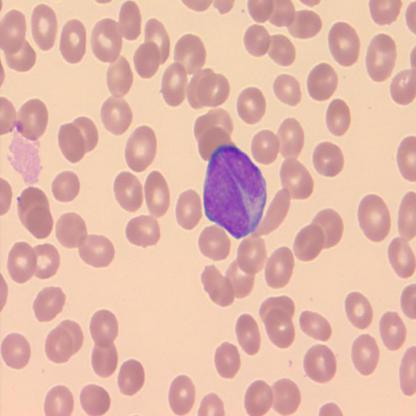Blast: (200, 141, 268, 242)
